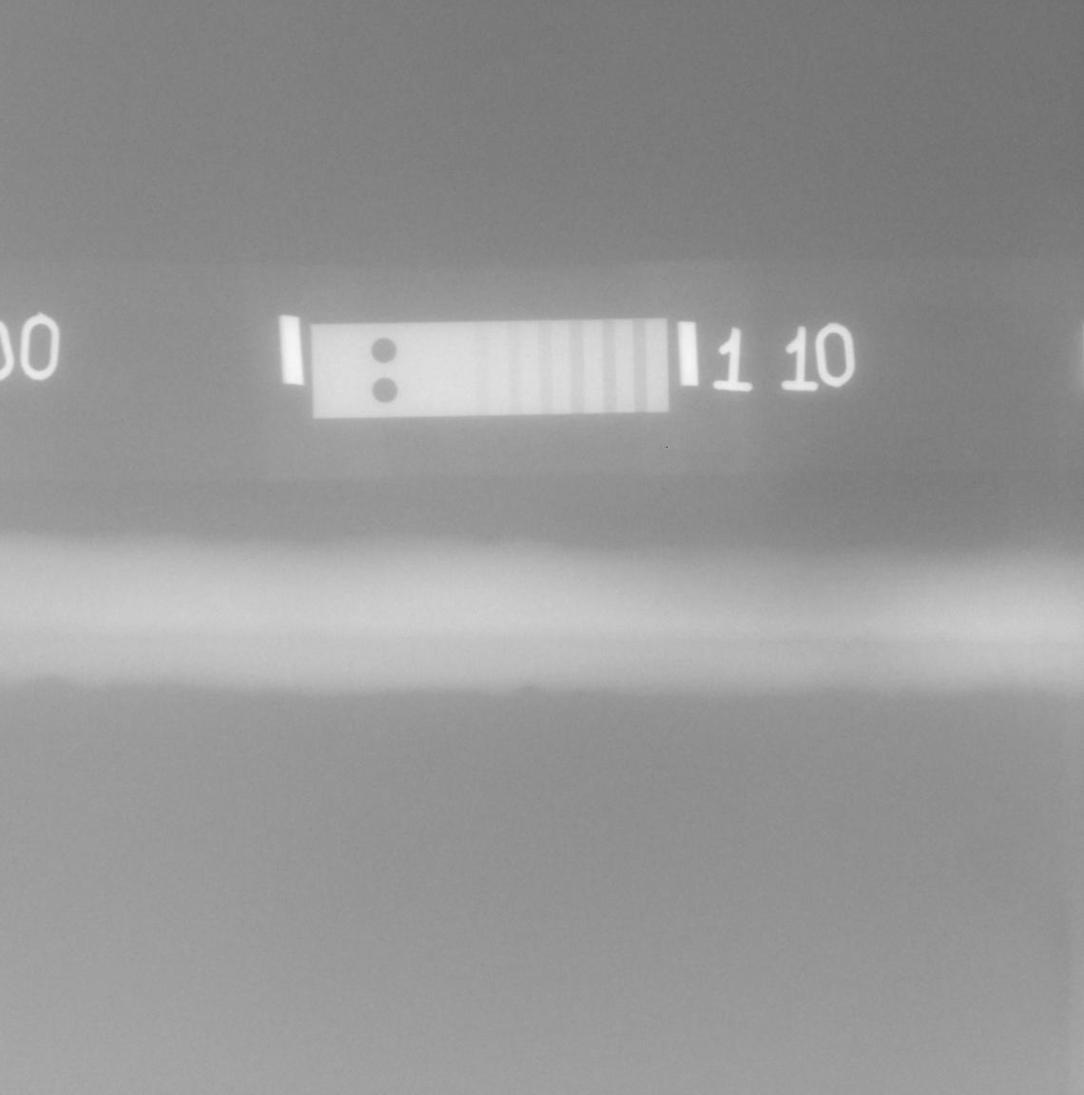Reference Standard 2: (309, 317, 670, 419)
